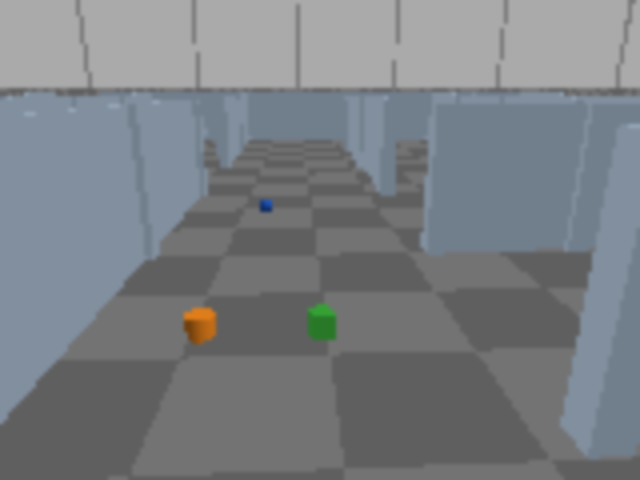puck: (186, 308, 216, 342), (307, 305, 334, 342), (256, 197, 275, 214)
